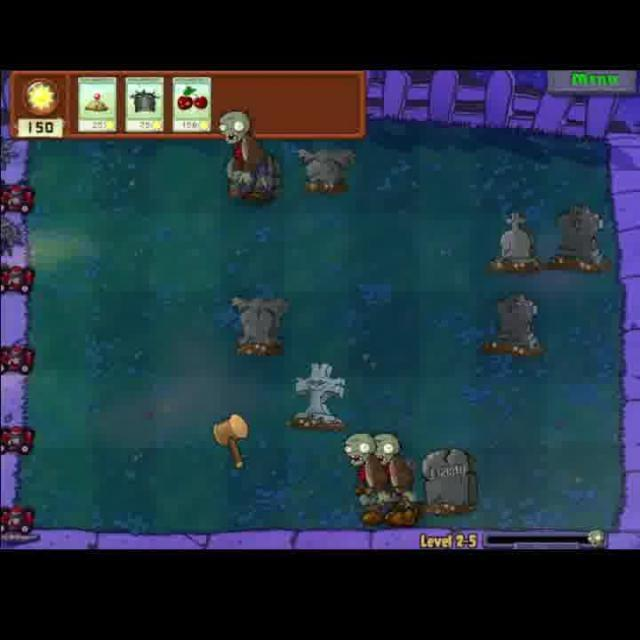zombies: (213, 106, 283, 206), (374, 426, 428, 532), (344, 428, 388, 526)
